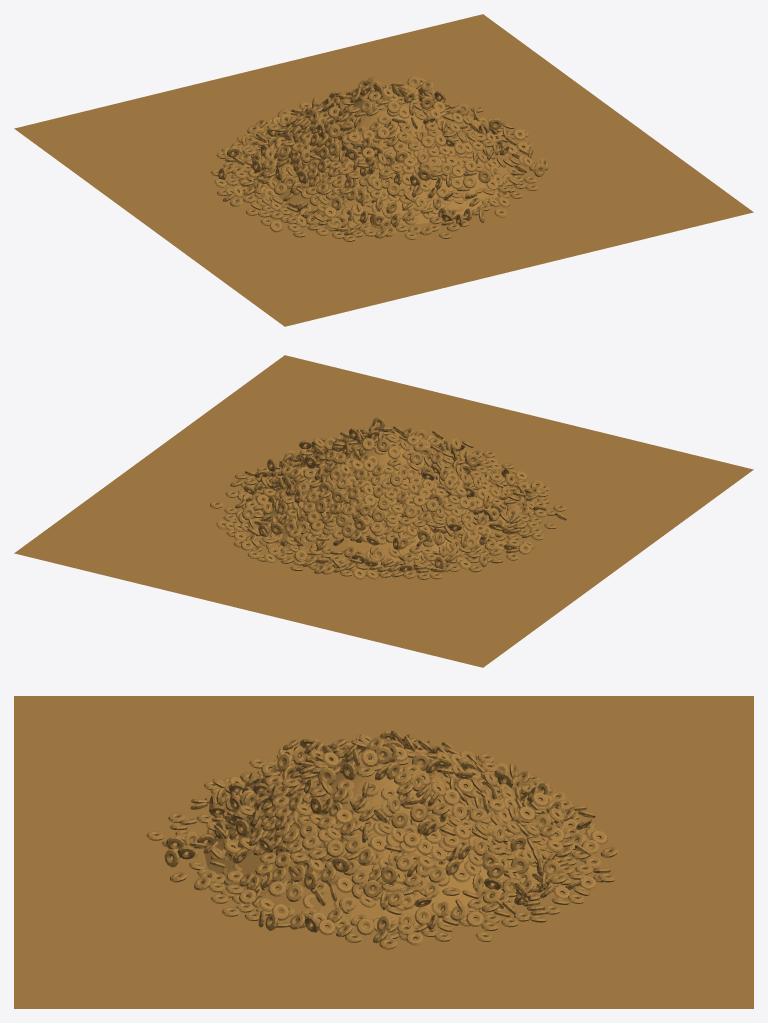
File: BIG FUCKIN PILE OF TREATS.fbx
The picture shows the model from 3 angles, top to bottom: view 1: azimuth 30°, elevation 25°; view 2: azimuth 150°, elevation 25°; view 3: azimuth 270°, elevation 25°; orthographic projection. The views are drawn at different scales.
Visible parts, largest first — view 1: Plane.001, Torus.001; view 2: Plane.001, Torus.001; view 3: Plane.001, Torus.001.
Part boxes in pixels (x1=…): Plane.001: x1=14, y1=14, x2=753, y2=326; Torus.001: x1=210, y1=76, x2=548, y2=241; Plane.001: x1=14, y1=355, x2=753, y2=667; Torus.001: x1=210, y1=417, x2=566, y2=579; Plane.001: x1=14, y1=696, x2=753, y2=1008; Torus.001: x1=146, y1=731, x2=618, y2=949.
Bounding box in the file's own units: 1602 × 275 × 1602.
